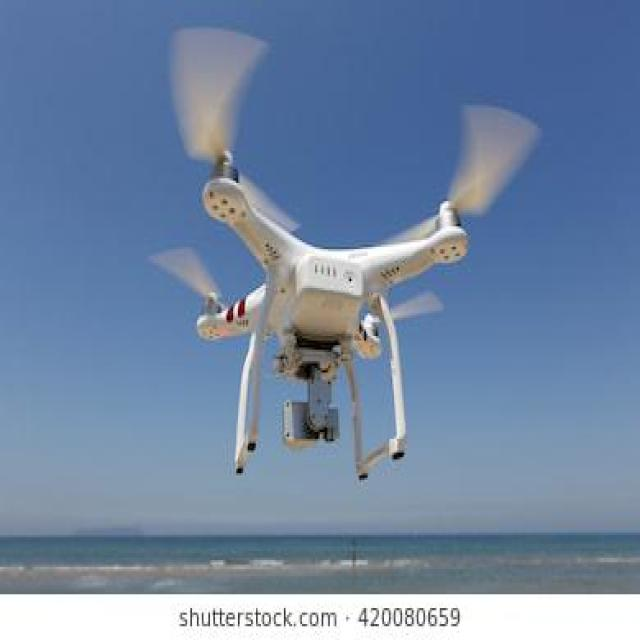drone: (144, 10, 549, 496)
